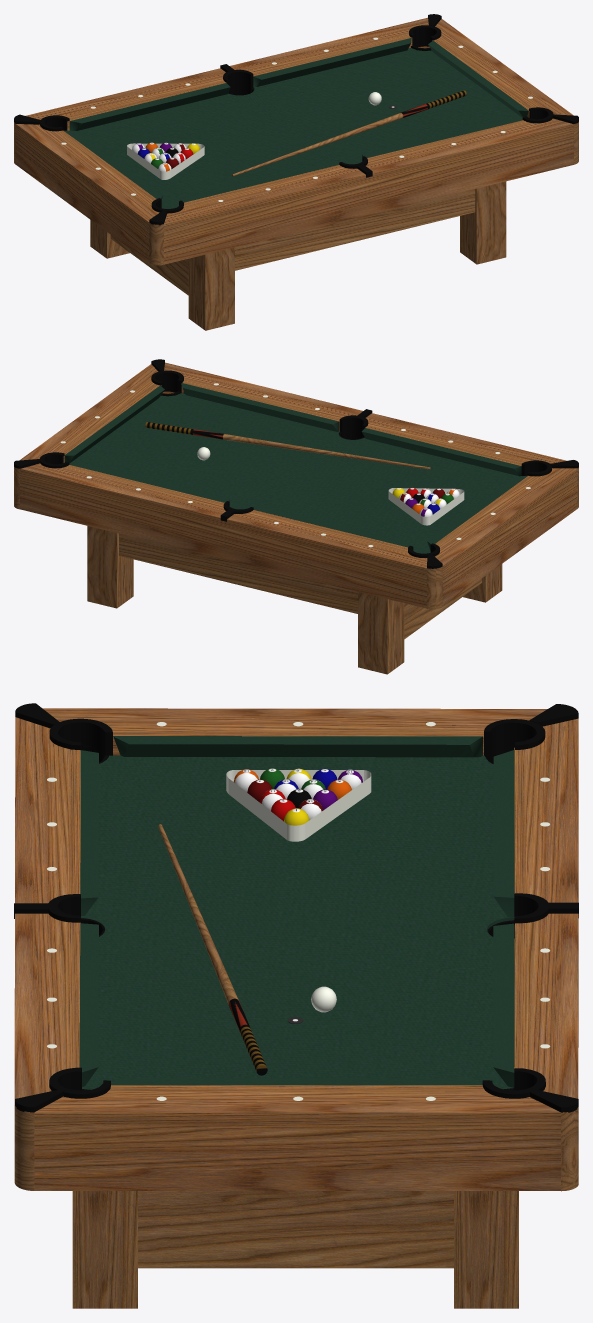
Rendered from poolTable.FBX.
3 views of the same model, one above another, from view 1: azimuth 30°, elevation 25°; view 2: azimuth 150°, elevation 25°; view 3: azimuth 270°, elevation 25° (orthographic). The views are drawn at different scales.
Parts seen in each view (by area): view 1: pooltable; view 2: pooltable; view 3: pooltable.
Boxes of the visible parts, left/top/right/bottom form: pooltable: left=14, top=14, right=578, bottom=330; pooltable: left=14, top=359, right=578, bottom=674; pooltable: left=14, top=703, right=578, bottom=1308.
Bounding box in the file's own units: 71.84 × 21.49 × 42.43.
Materials: 24 (22 with a texture image).
